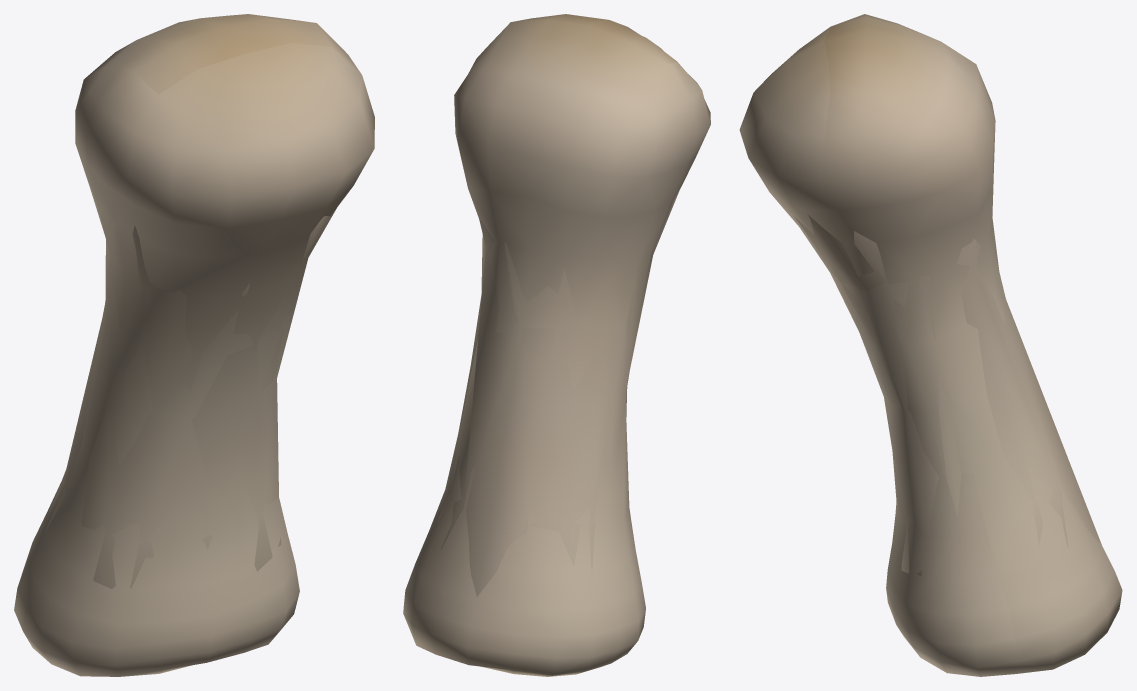
File: vertebrae caudales 10.fbx
3 views of the same model, side by side, from view 1: azimuth 30°, elevation 25°; view 2: azimuth 150°, elevation 25°; view 3: azimuth 270°, elevation 25° (orthographic). The views are drawn at different scales.
Parts seen in each view (by area): view 1: vertebrae caudales 10, vertebrae caudales 10 low; view 2: vertebrae caudales 10, vertebrae caudales 10 low; view 3: vertebrae caudales 10, vertebrae caudales 10 low.
Part boxes in pixels (x1,y1,x2,y2): vertebrae caudales 10: (14, 14, 374, 676); vertebrae caudales 10 low: (45, 208, 336, 588); vertebrae caudales 10: (403, 14, 710, 676); vertebrae caudales 10 low: (436, 187, 680, 596); vertebrae caudales 10: (739, 14, 1122, 676); vertebrae caudales 10 low: (794, 214, 1101, 576).
Bounding box in the file's own units: 1.32 × 3.26 × 1.89.
Materials: 1 (1 with a texture image).
